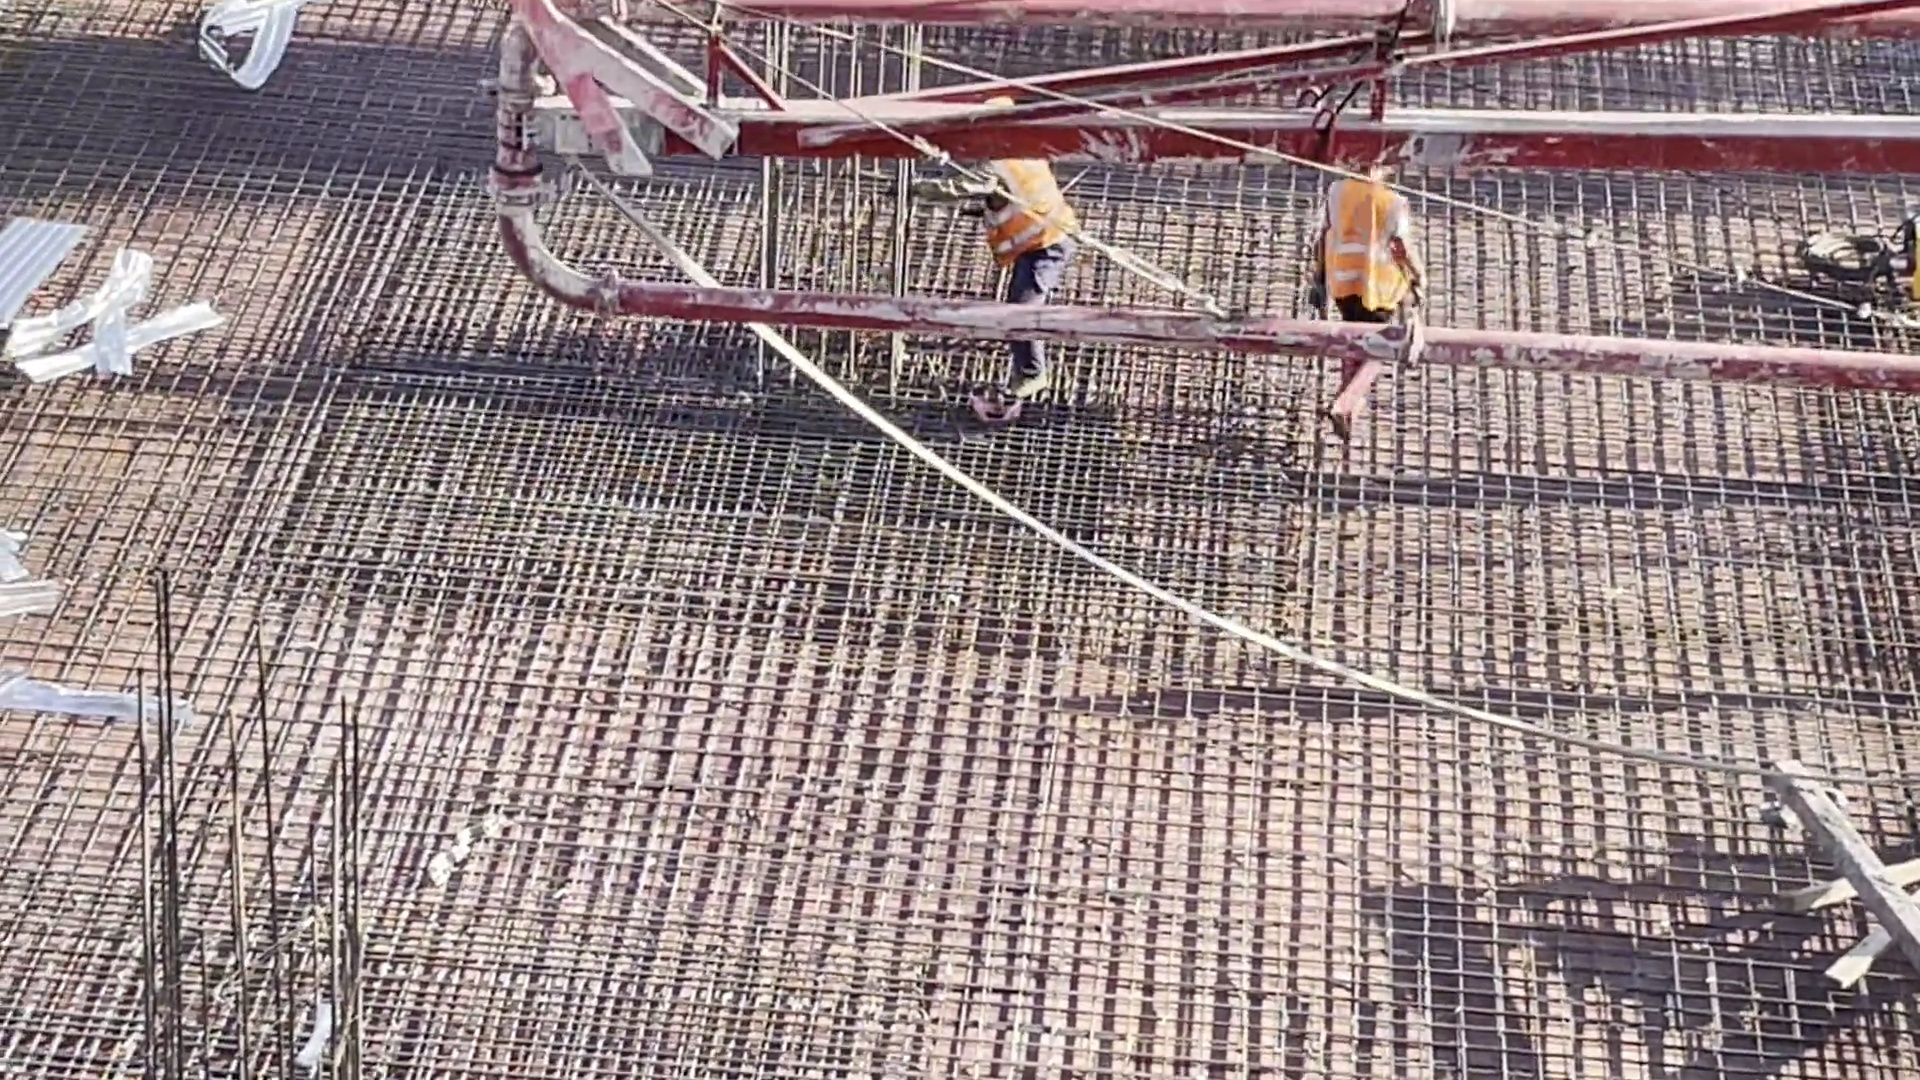person: (944, 91, 1079, 393), (1301, 152, 1419, 441)
vest: (1320, 181, 1409, 315), (979, 164, 1071, 256)
